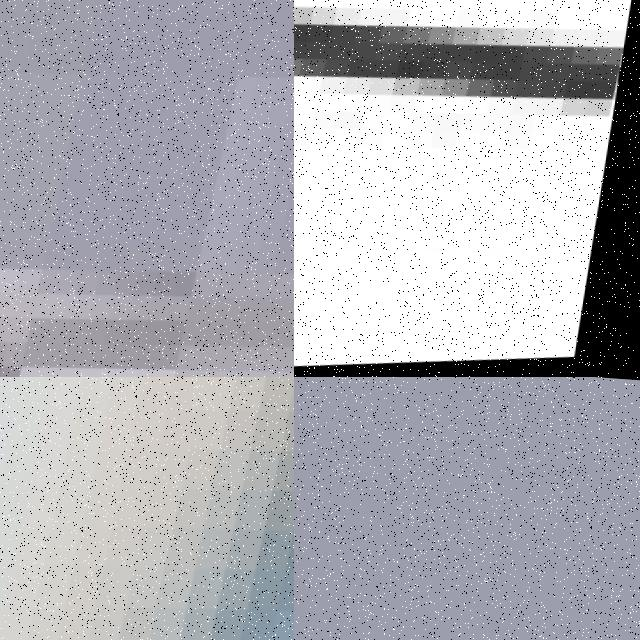drone: (294, 0, 640, 377), (0, 0, 294, 377), (0, 377, 294, 640)
